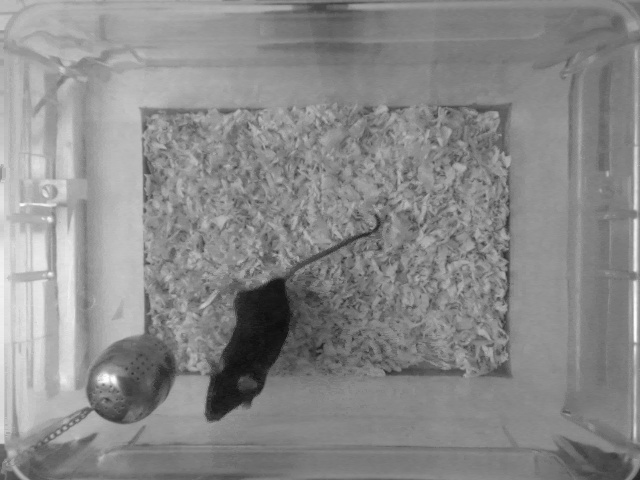mice: (202, 212, 382, 423)
